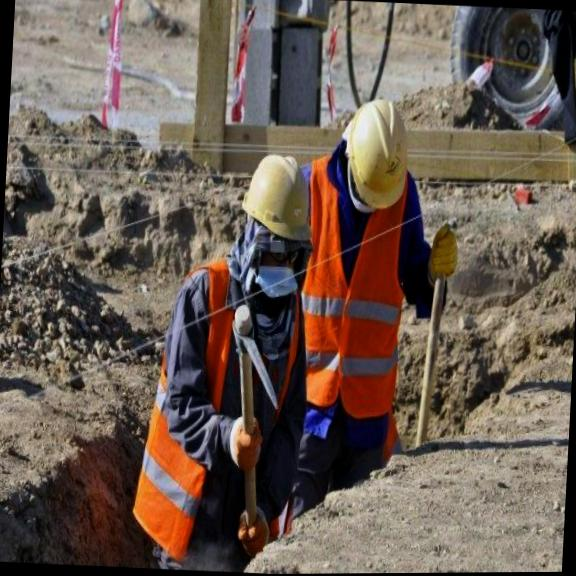safety_vest: (299, 189, 410, 429)
